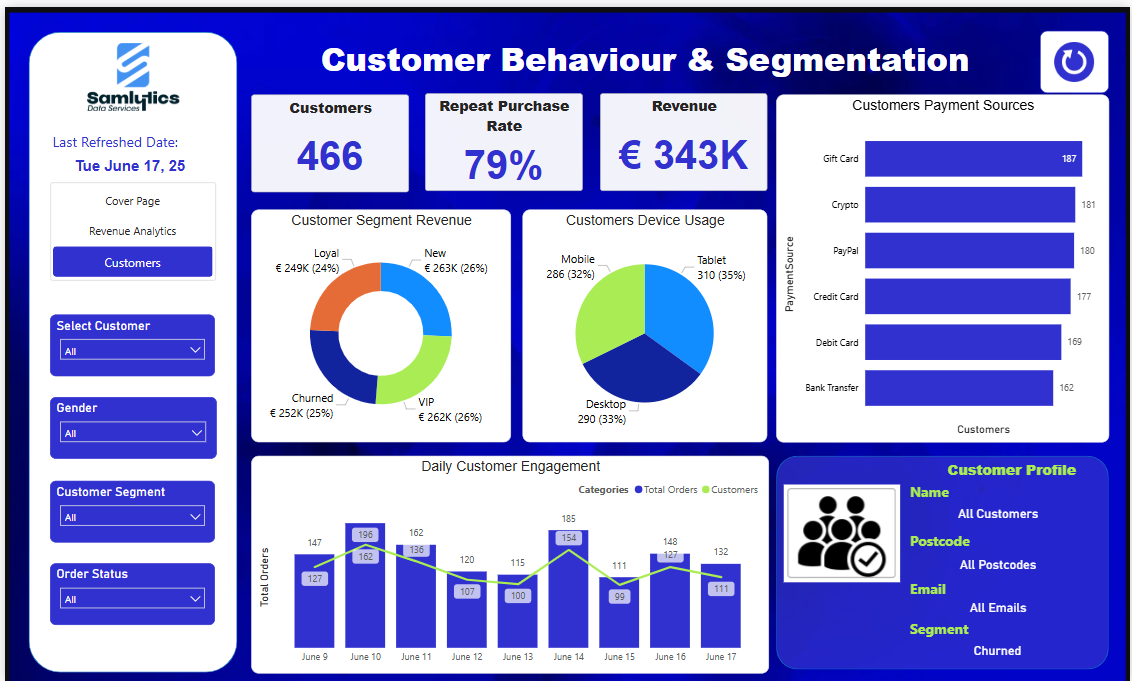

What the dashboard file says about the page in this screenshot:
{"tool":"powerbi","page":{"name":"Customers","canvas":[1500,900],"ordinal":2},"visuals":[{"type":"shape","box":[32,34,278,854],"z":0},{"type":"textbox","box":[326.7,33.3,1053.3,83.3],"z":1000},{"type":"card","title":"Customers","fields":{"Values":["Sales_fact.customer_key"]},"box":[328,116,210,130],"z":2000},{"type":"card","title":"Repeat Purchase Rate","fields":{"Values":["Measures_Table.Repeat Customer Rate"]},"box":[560.7,115,210,130],"z":3000},{"type":"card","title":"Last Refreshed","fields":{"Values":["Measures_Table.Last Report Date"]},"box":[53.3,193.3,226.7,40],"z":4000},{"type":"textbox","box":[58.3,161.7,221.7,38.3],"z":5000},{"type":"pageNavigator","box":[60,233.3,221.7,131.7],"z":6000},{"type":"donutChart","title":"Customer Segment Revenue","fields":{"Category":["Sales_fact.CustomerSegment"],"Y":["Sales_fact.OrderTotalPrice"]},"box":[328,270,346,310],"z":8000},{"type":"shape","box":[1028.3,598.3,443.3,285],"z":9000},{"type":"imageDB603108E3FF4EBFB8047F5653368E8C","fields":{"imageUrl":["Measures_Table.image switch"]},"box":[1038.3,636.7,155,130],"z":10000},{"type":"textbox","box":[1202,628,80,40],"z":11000},{"type":"textbox","box":[1202,694,98,48],"z":12000},{"type":"textbox","box":[1202,758,196,38],"z":13000},{"type":"textbox","box":[1202,812,98,38],"z":14000},{"type":"card","fields":{"Values":["Measures_Table.CustomerFullName"]},"box":[1204,656,242,40],"z":15000},{"type":"card","fields":{"Values":["Measures_Table.CustomerPostcode"]},"box":[1204,722,242,44],"z":16000},{"type":"slicer","title":"Select Customer","fields":{"Values":["customer_dim.CustomerId"]},"box":[60,410,220,82],"z":17000},{"type":"card","fields":{"Values":["Sales_fact.CustomerSegment"]},"box":[1202,844,244,30],"z":18000},{"type":"card","fields":{"Values":["Measures_Table.CustomerEmail"]},"box":[1204,782,242,40],"z":19000},{"type":"textbox","box":[1252,598,194,50],"z":20000},{"type":"slicer","title":"Customer Segment","fields":{"Values":["Sales_fact.CustomerSegment"]},"box":[60,631.3,220,82],"z":21000},{"type":"clusteredBarChart","title":"Customers Payment Sources","fields":{"Category":["payment_source_dim.PaymentSource"],"Y":["Sales_fact.customer_key"]},"box":[1028,116,444,464],"z":22000},{"type":"card","title":"Revenue","fields":{"Values":["Measures_Table.Total Revenue"]},"box":[793.3,115,223.3,130],"z":23000},{"type":"lineClusteredColumnComboChart","title":"Daily Customer Engagement","fields":{"Category":["DateTable.Date"],"Y":["Sales_fact.OrderId"],"Y2":["Sales_fact.customer_key"]},"box":[328,598,690,290],"z":24000},{"type":"slicer","title":"Gender","fields":{"Values":["customer_dim.Gender"]},"box":[60,520.7,222,82],"z":25000},{"type":"slicer","title":"Order Status","fields":{"Values":["Sales_fact.OrderStatus"]},"box":[60,742,220,82],"z":26000},{"type":"pieChart","title":"Customers Device Usage","fields":{"Category":["Sales_fact.DeviceType"],"Y":["Sales_fact.customer_key"]},"box":[690,270,326,310],"z":27000},{"type":"image","box":[1380,31.7,91.7,83.3],"z":28000},{"type":"image","box":[32,44,278,100],"z":28001}]}

Visuals, with their boxes in screenshot pixels (x1, y1, x2, y2), scaled from the page's 1500x900 canvas onto the 1132x681 screenshot:
shape: locate(24, 26, 234, 672)
textbox: locate(247, 25, 1041, 88)
"Customers" card: locate(248, 88, 406, 186)
"Repeat Purchase Rate" card: locate(423, 87, 582, 185)
"Last Refreshed" card: locate(40, 146, 211, 177)
textbox: locate(44, 122, 211, 151)
pageNavigator: locate(45, 177, 213, 276)
"Customer Segment Revenue" donutChart: locate(248, 204, 509, 439)
shape: locate(776, 453, 1111, 668)
imageDB603108E3FF4EBFB8047F5653368E8C - Measures_Table.image switch: locate(784, 482, 901, 580)
textbox: locate(907, 475, 967, 505)
textbox: locate(907, 525, 981, 561)
textbox: locate(907, 574, 1055, 602)
textbox: locate(907, 614, 981, 643)
card - Measures_Table.CustomerFullName: locate(909, 496, 1091, 527)
card - Measures_Table.CustomerPostcode: locate(909, 546, 1091, 580)
"Select Customer" slicer: locate(45, 310, 211, 372)
card - Sales_fact.CustomerSegment: locate(907, 639, 1091, 661)
card - Measures_Table.CustomerEmail: locate(909, 592, 1091, 622)
textbox: locate(945, 452, 1091, 490)
"Customer Segment" slicer: locate(45, 478, 211, 540)
"Customers Payment Sources" clusteredBarChart: locate(776, 88, 1111, 439)
"Revenue" card: locate(599, 87, 767, 185)
"Daily Customer Engagement" lineClusteredColumnComboChart: locate(248, 452, 768, 672)
"Gender" slicer: locate(45, 394, 213, 456)
"Order Status" slicer: locate(45, 561, 211, 623)
"Customers Device Usage" pieChart: locate(521, 204, 767, 439)
image: locate(1041, 24, 1111, 87)
image: locate(24, 33, 234, 109)
